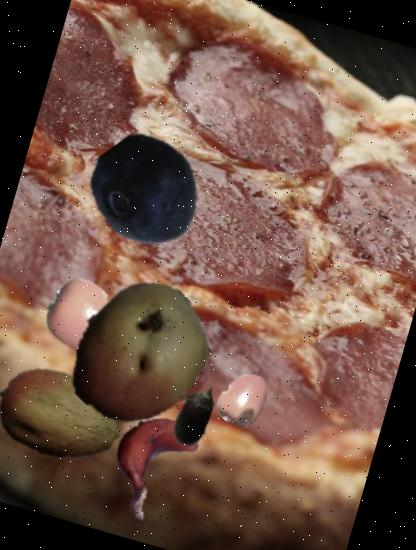Banana: (90, 400, 214, 524)
Blueberry: (77, 122, 217, 262)
Eggplant: (153, 374, 235, 456)
Kaki: (32, 269, 140, 377), (209, 365, 280, 436)
Papaya: (47, 262, 230, 446), (0, 336, 136, 493)
Redcurrant: (134, 320, 224, 409)
